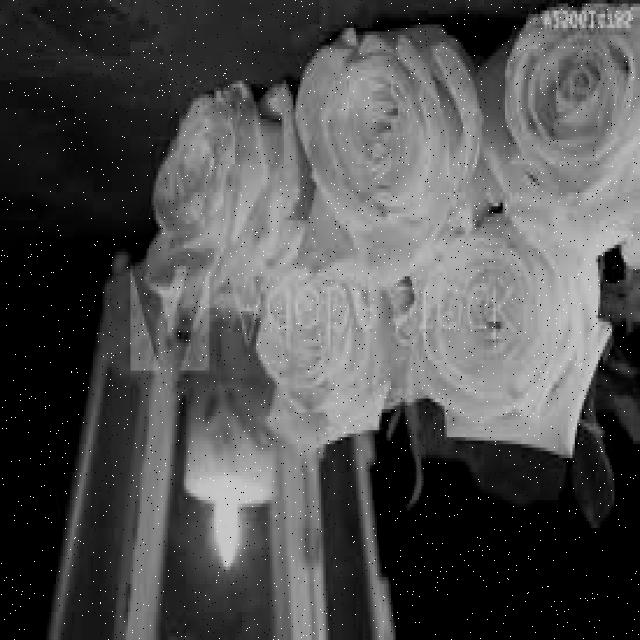api: (211, 498, 241, 575)
